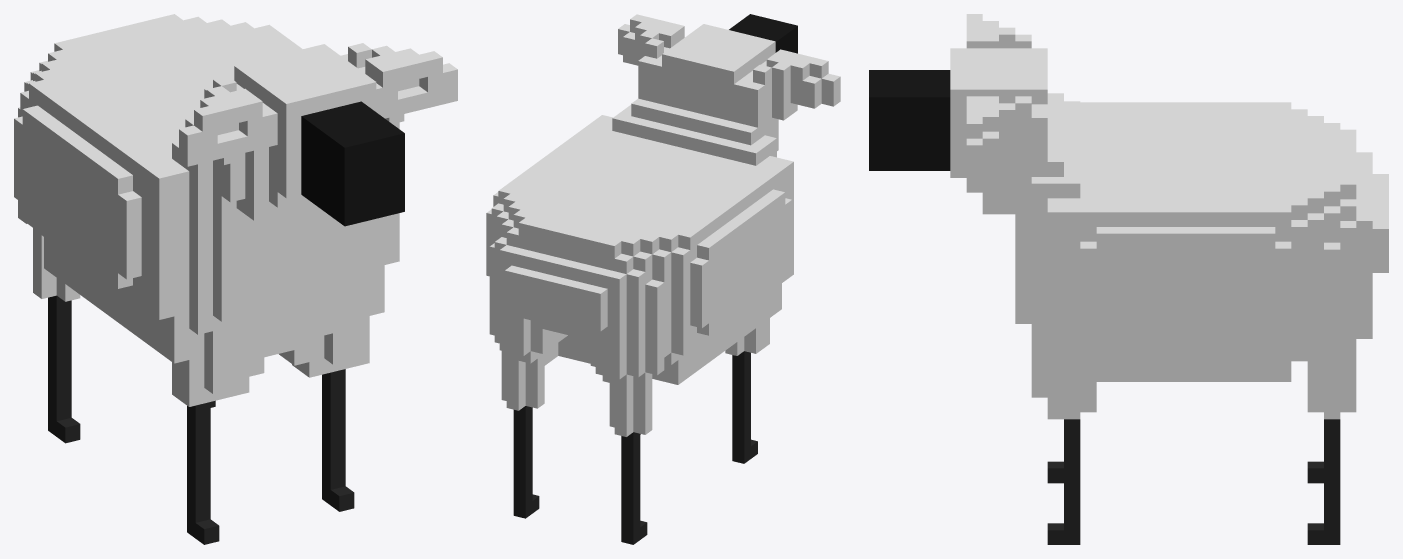
Rendered from sheep.obj.
3 views of the same model, side by side, from view 1: azimuth 30°, elevation 25°; view 2: azimuth 150°, elevation 25°; view 3: azimuth 270°, elevation 25° (orthographic). The views are drawn at different scales.
Bounding box in the file's own units: 18 × 30 × 32.
Materials: 1 (1 with a texture image).
